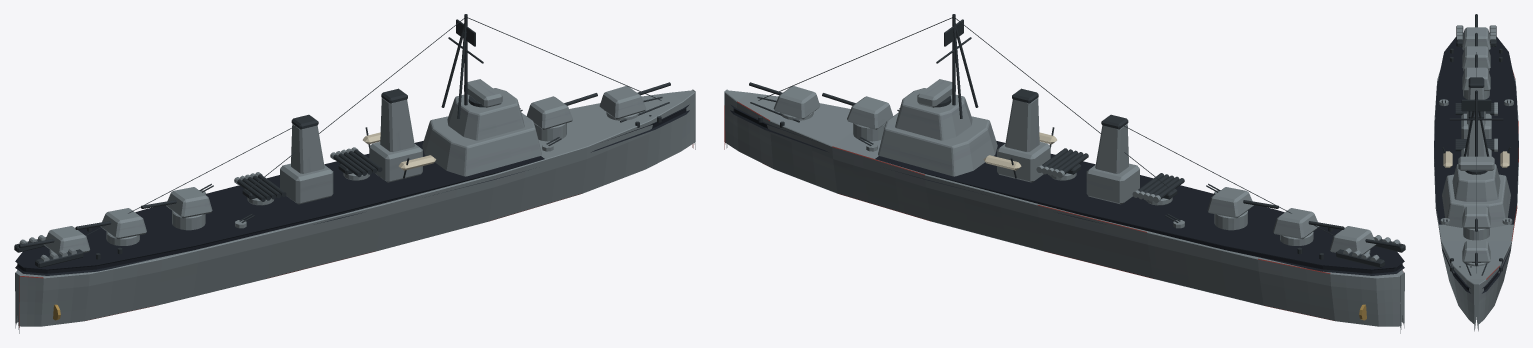
The model's file is destroyer-classic.glb.
3 renders of one model, left to right at view 1: azimuth 30°, elevation 25°; view 2: azimuth 150°, elevation 25°; view 3: azimuth 270°, elevation 25°, orthographic. The views are drawn at different scales.
Parts seen in each view (by area): view 1: Fletcher_Hull, Fletcher_Main_Deck, Fletcher_Bridge_Level_1, Fletcher_Bridge_Level_2, Fletcher_Funnel_Base_2, Fletcher_Funnel_1, Fletcher_Funnel_2, Fletcher_Funnel_Base_1, Fletcher_Main_1_Gunhouse, Fletcher_Main_2_Gunhouse, Fletcher_Main_3_Gunhouse, Fletcher_Main_4_Gunhouse (+2 smaller); view 2: Fletcher_Hull, Fletcher_Main_Deck, Fletcher_Bridge_Level_1, Fletcher_Bridge_Level_2, Fletcher_Funnel_Base_2, Fletcher_Funnel_1, Fletcher_Funnel_2, Fletcher_Funnel_Base_1, Fletcher_Main_1_Gunhouse, Fletcher_Main_2_Gunhouse, Fletcher_Main_3_Gunhouse, Fletcher_Main_4_Gunhouse (+2 smaller); view 3: Fletcher_Main_Deck, Fletcher_Hull, Fletcher_Bridge_Level_1, Fletcher_Bridge_Level_2, Fletcher_Main_2_Gunhouse, Fletcher_Main_4_Gunhouse, Fletcher_Main_1_Gunhouse, Fletcher_Mk37_Director, Fletcher_Main_5_Gunhouse, Fletcher_Funnel_1, Fletcher_Main_3_Gunhouse, Fletcher_SC_Radar (+17 smaller).
Part boxes in pixels (<box>): Fletcher_Hull: <box>15,89,695,333</box>; Fletcher_Main_Deck: <box>15,104,689,275</box>; Fletcher_Bridge_Level_1: <box>422,112,541,176</box>; Fletcher_Bridge_Level_2: <box>447,88,524,140</box>; Fletcher_Funnel_Base_2: <box>280,163,333,204</box>; Fletcher_Funnel_1: <box>380,98,414,151</box>; Fletcher_Funnel_2: <box>291,124,324,173</box>; Fletcher_Funnel_Base_1: <box>369,142,422,182</box>; Fletcher_Main_1_Gunhouse: <box>599,86,646,119</box>; Fletcher_Main_2_Gunhouse: <box>527,96,572,129</box>; Fletcher_Main_3_Gunhouse: <box>166,187,212,218</box>; Fletcher_Main_4_Gunhouse: <box>100,208,146,239</box>; Fletcher_Hull: <box>724,89,1404,333</box>; Fletcher_Main_Deck: <box>730,104,1404,275</box>; Fletcher_Bridge_Level_1: <box>878,112,997,176</box>; Fletcher_Bridge_Level_2: <box>895,88,972,140</box>; Fletcher_Funnel_Base_2: <box>1086,163,1139,204</box>; Fletcher_Funnel_1: <box>1005,98,1039,151</box>; Fletcher_Funnel_2: <box>1095,124,1128,173</box>; Fletcher_Funnel_Base_1: <box>997,142,1050,182</box>; Fletcher_Main_1_Gunhouse: <box>773,86,820,119</box>; Fletcher_Main_2_Gunhouse: <box>847,96,892,129</box>; Fletcher_Main_3_Gunhouse: <box>1207,187,1253,218</box>; Fletcher_Main_4_Gunhouse: <box>1273,208,1319,239</box>; Fletcher_Main_Deck: <box>1434,37,1518,293</box>; Fletcher_Hull: <box>1434,70,1518,331</box>; Fletcher_Bridge_Level_1: <box>1442,174,1510,227</box>; Fletcher_Bridge_Level_2: <box>1452,164,1500,201</box>; Fletcher_Main_2_Gunhouse: <box>1462,206,1490,228</box>; Fletcher_Main_4_Gunhouse: <box>1462,46,1490,69</box>; Fletcher_Main_1_Gunhouse: <box>1462,241,1490,262</box>; Fletcher_Mk37_Director: <box>1458,156,1494,170</box>; Fletcher_Main_5_Gunhouse: <box>1462,27,1490,50</box>; Fletcher_Funnel_1: <box>1466,120,1486,156</box>; Fletcher_Main_3_Gunhouse: <box>1462,67,1490,90</box>; Fletcher_SC_Radar: <box>1461,99,1491,111</box>.
Size of the model in its own units: 31 by 9.12 by 4.23.
Materials: 7 (2 with a texture image).
